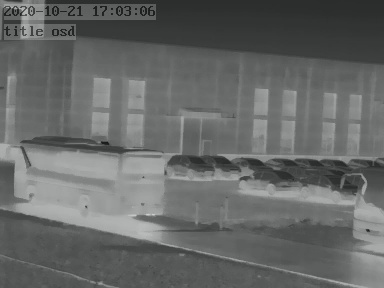vehicle: (13, 139, 163, 218), (239, 169, 302, 191), (299, 174, 350, 201), (166, 152, 212, 179), (205, 153, 242, 178), (233, 154, 270, 171), (344, 155, 379, 171), (319, 156, 352, 171), (262, 155, 296, 169), (296, 155, 326, 169)
